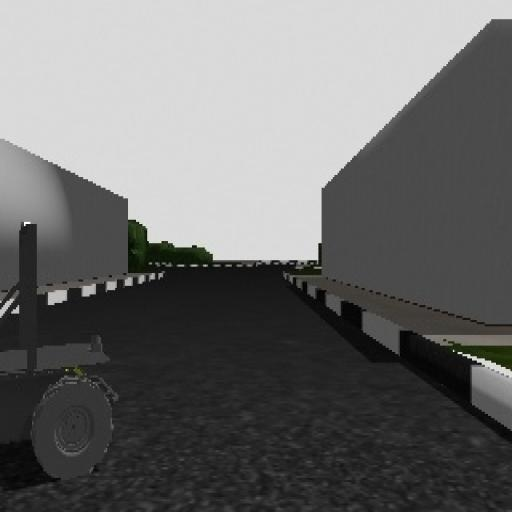huskya200: (1, 207, 130, 502)
